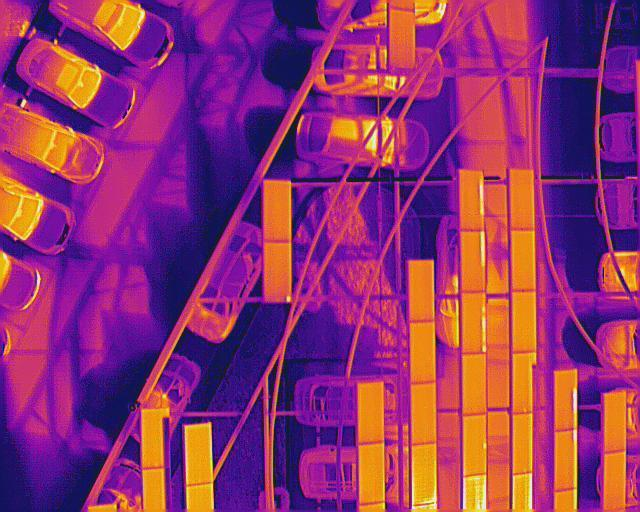Cell: (264, 242, 292, 303), (462, 415, 488, 478)
No-Anomaly: (407, 259, 434, 321), (410, 321, 437, 382), (358, 382, 385, 443), (184, 425, 211, 486), (264, 180, 290, 242), (509, 168, 535, 229), (411, 383, 437, 444), (390, 8, 416, 67), (461, 352, 486, 413), (359, 443, 384, 504), (511, 230, 536, 290), (512, 291, 536, 352), (141, 409, 164, 469), (512, 354, 534, 413), (604, 394, 626, 453), (604, 450, 626, 509), (511, 415, 532, 474)
Unclassified: (458, 170, 485, 232), (412, 442, 437, 505), (461, 230, 485, 292), (554, 370, 578, 430), (462, 293, 486, 352), (554, 431, 577, 490)
